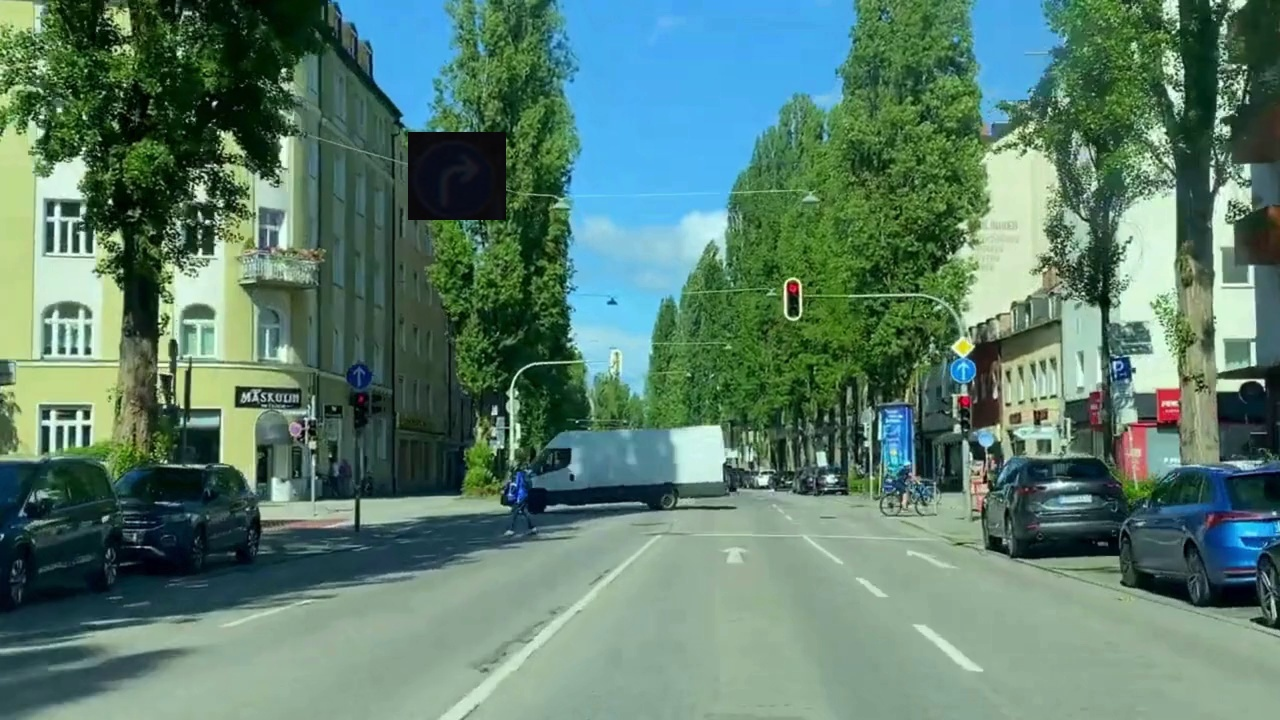Turn right: (408, 132, 506, 220)
